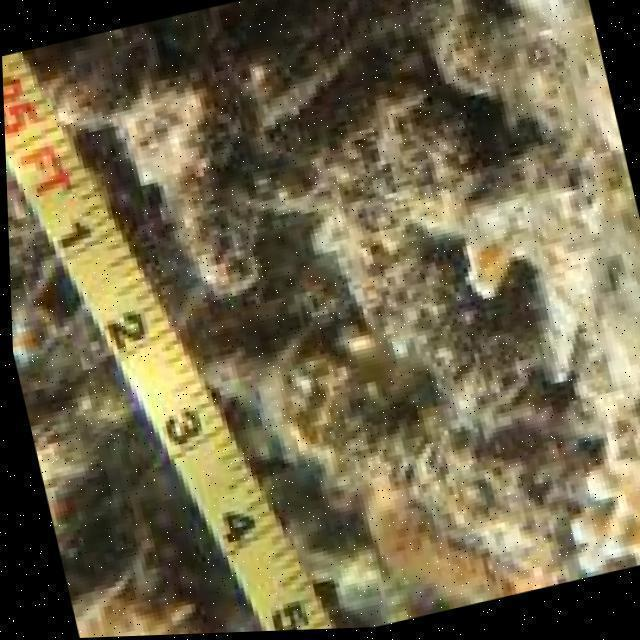Dead Coral: (141, 9, 488, 498)
